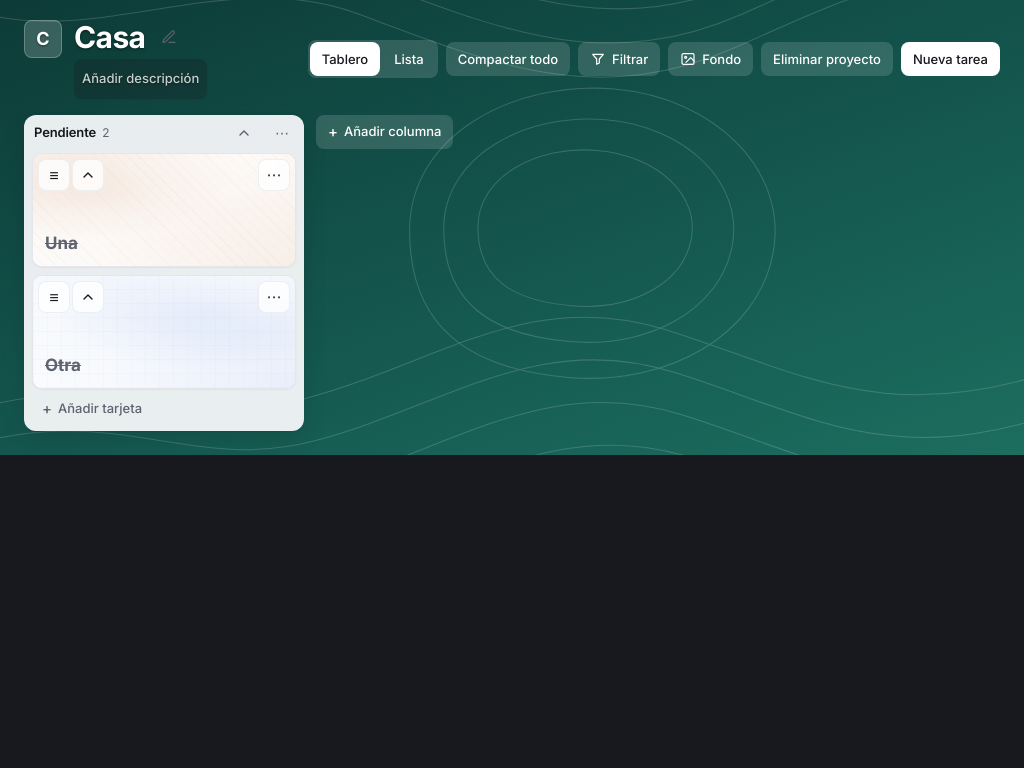
Scenario: Eliminar proyecto › mantiene el diálogo y muestra el error del servidor
Click the button "Eliminar proyecto" at (827, 59), box 761,42 -> 893,76
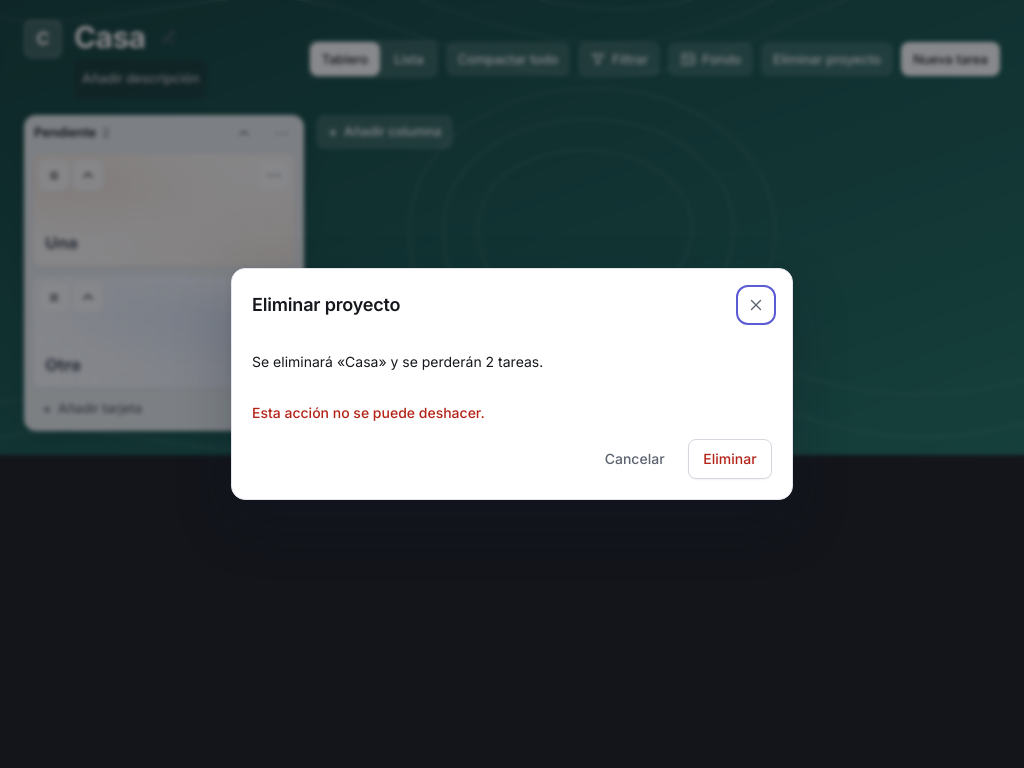
Click the button "Eliminar" at (730, 459), box 688,439 -> 772,479
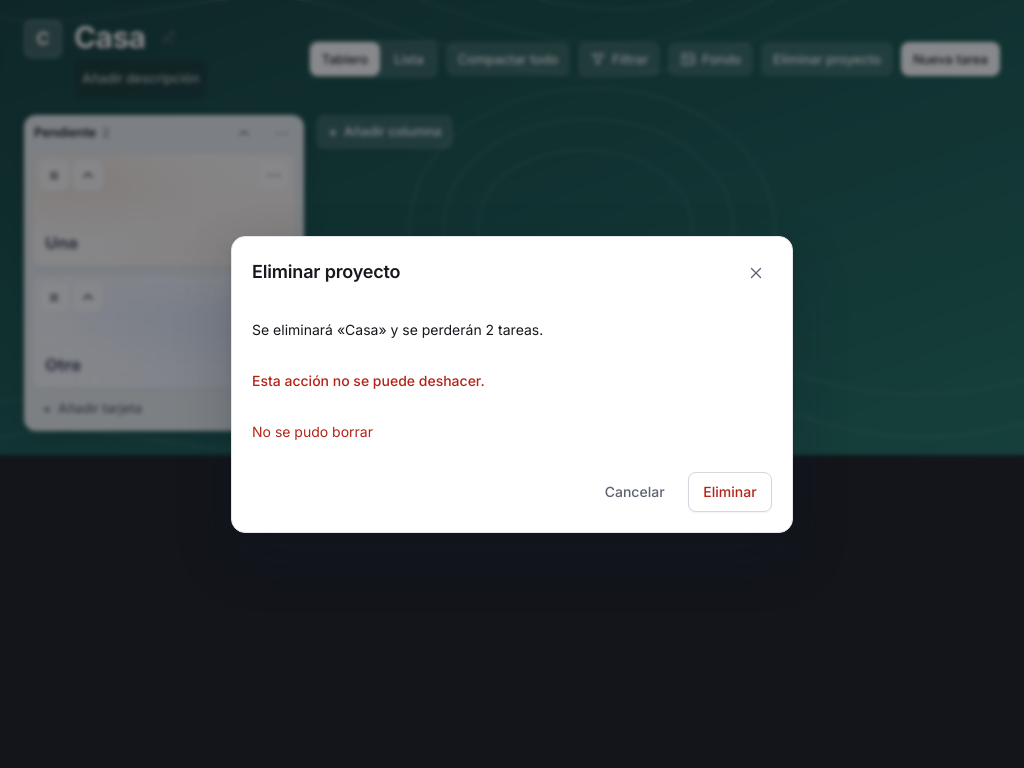
Now the heading "Eliminar proyecto" is shown, box 252,261 -> 400,284
Now the text "No se pudo borrar" is shown, box 252,422 -> 373,440
